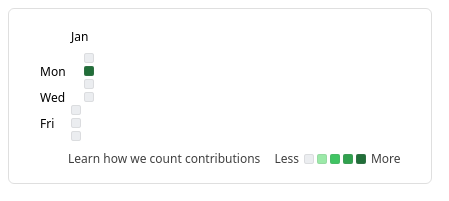
Test: ContributionHeatmap › shows and hides tooltip on hover and focus
Hover over the button named "7 contributions on January 5th" at [89, 71], box [84,66,94,76]
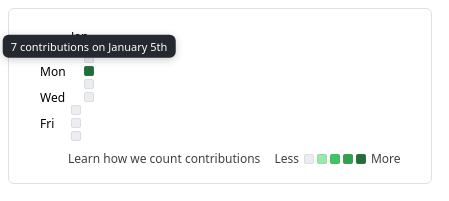
Expected: the tooltip reads "7 contributions on January 5th", [11,39,167,54]
Move the pointer off the button named "7 contributions on January 5th", box [84,66,94,76]
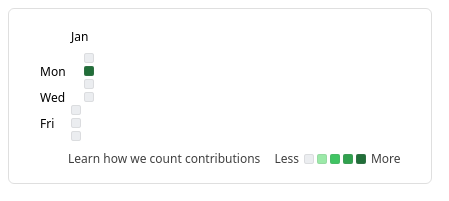
Expected: the tooltip "7 contributions on January 5th" is gone
Focus the button named "7 contributions on January 5th" at [89, 71], box [84,66,94,76]
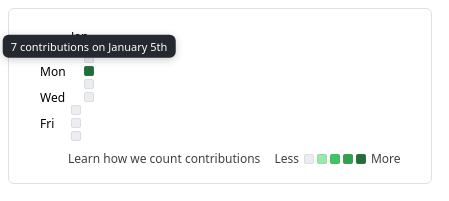
Expected: the tooltip reads "7 contributions on January 5th", [11,39,167,54]
